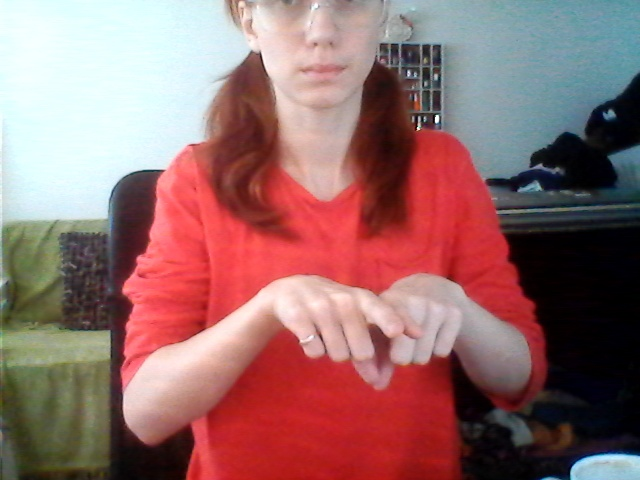sestra: (276, 260, 462, 398)
